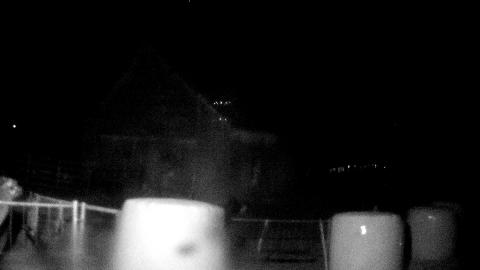sheep: (0, 177, 24, 227)
